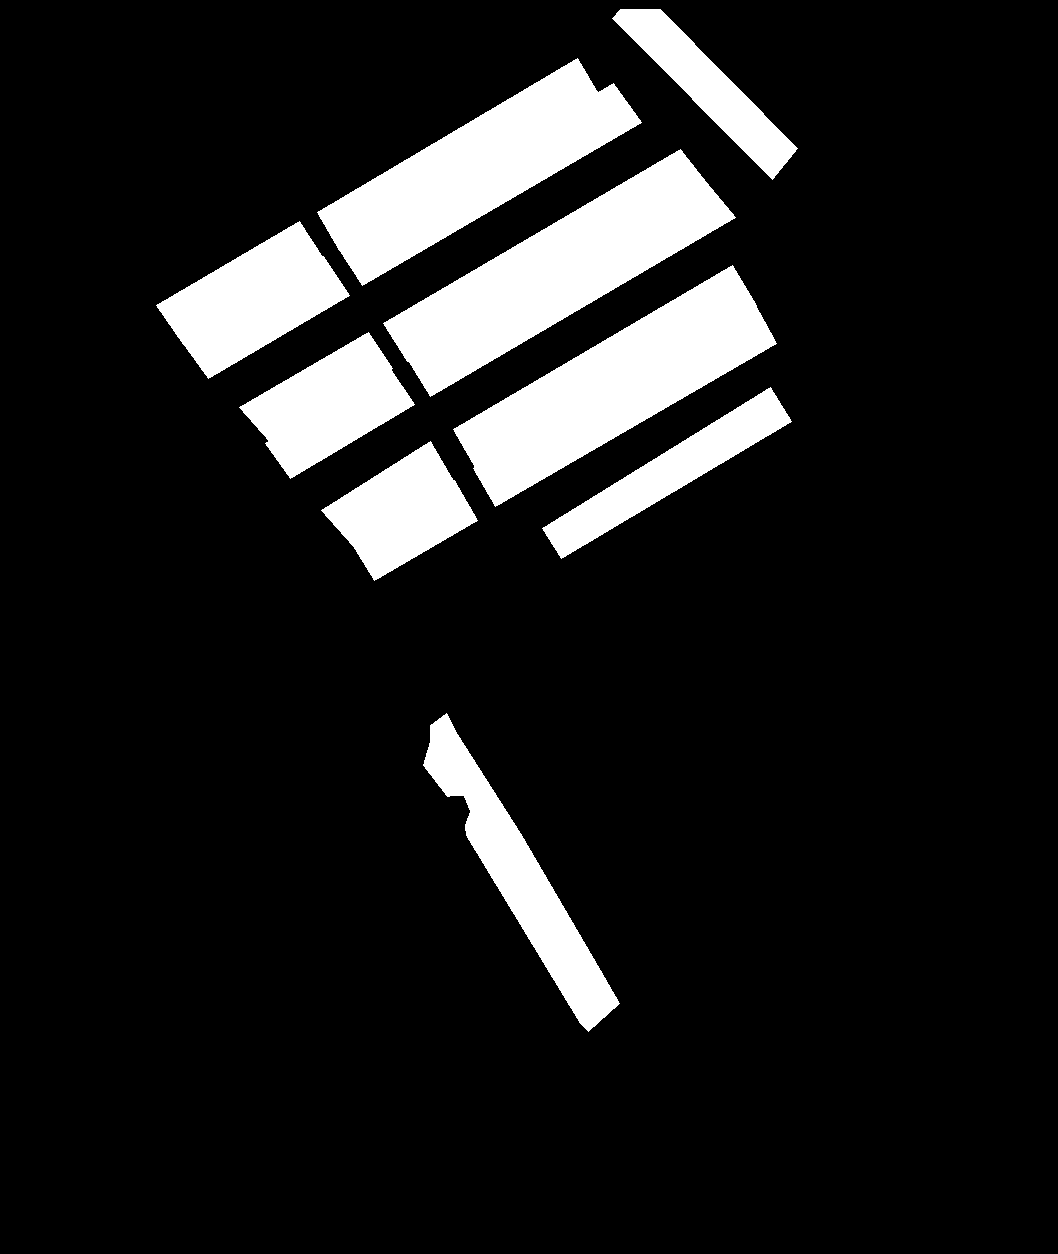parkingspot: (406, 182, 735, 396), (383, 149, 708, 361), (423, 713, 619, 1030), (473, 301, 776, 506), (453, 265, 756, 469), (338, 83, 641, 285), (317, 58, 599, 250), (542, 387, 791, 558), (612, 9, 797, 179), (156, 221, 325, 344), (182, 256, 350, 378), (239, 332, 392, 442), (264, 367, 414, 479), (321, 441, 454, 546), (350, 480, 477, 580)
